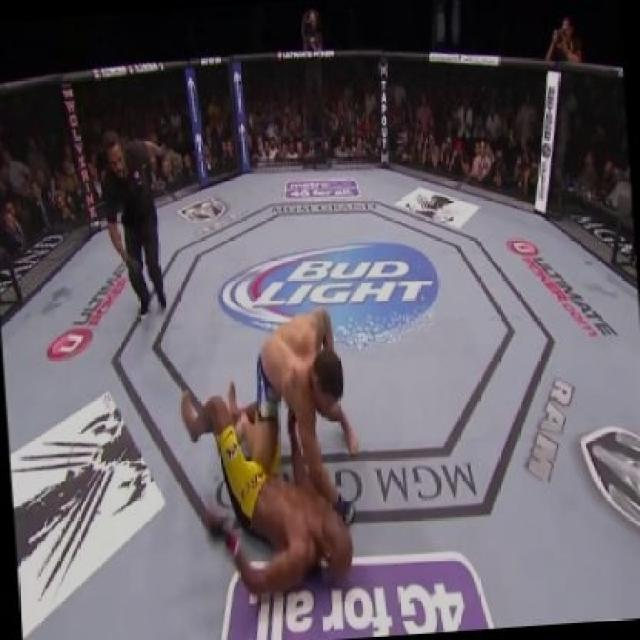fight: (177, 304, 387, 602)
non-fight: (89, 128, 180, 320)
